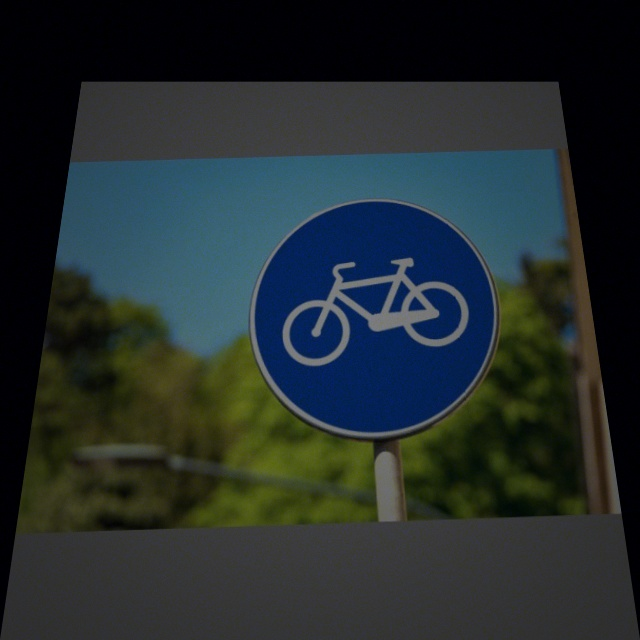Compulsory_Cycle_Track: (241, 194, 517, 445)
